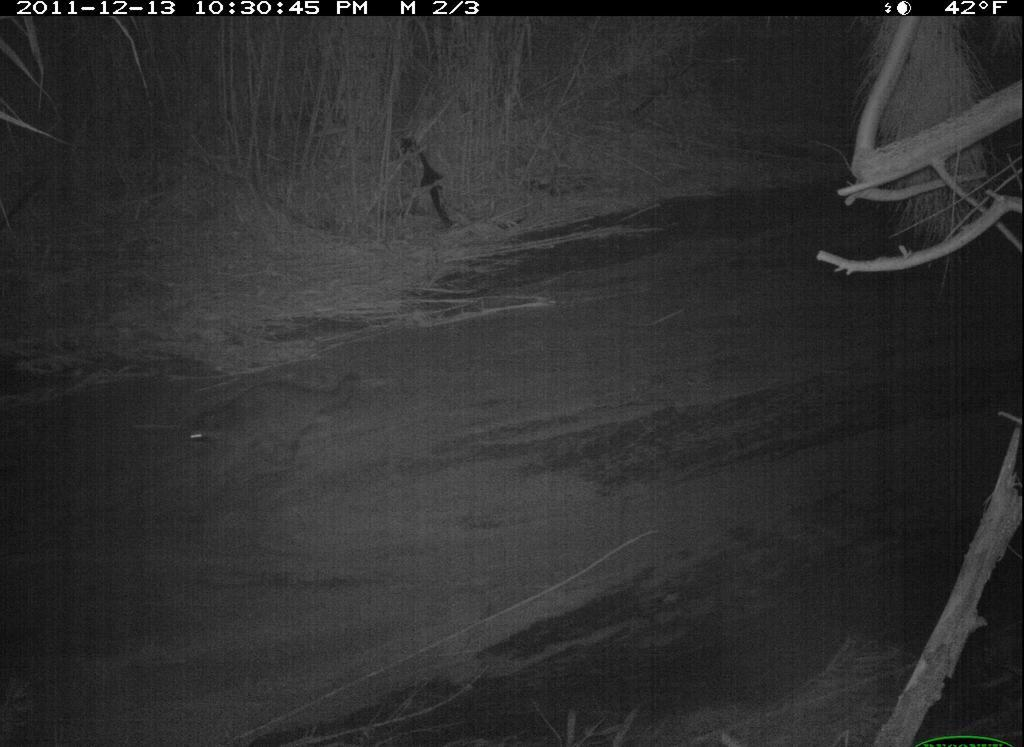raccoon: (163, 358, 377, 481)
